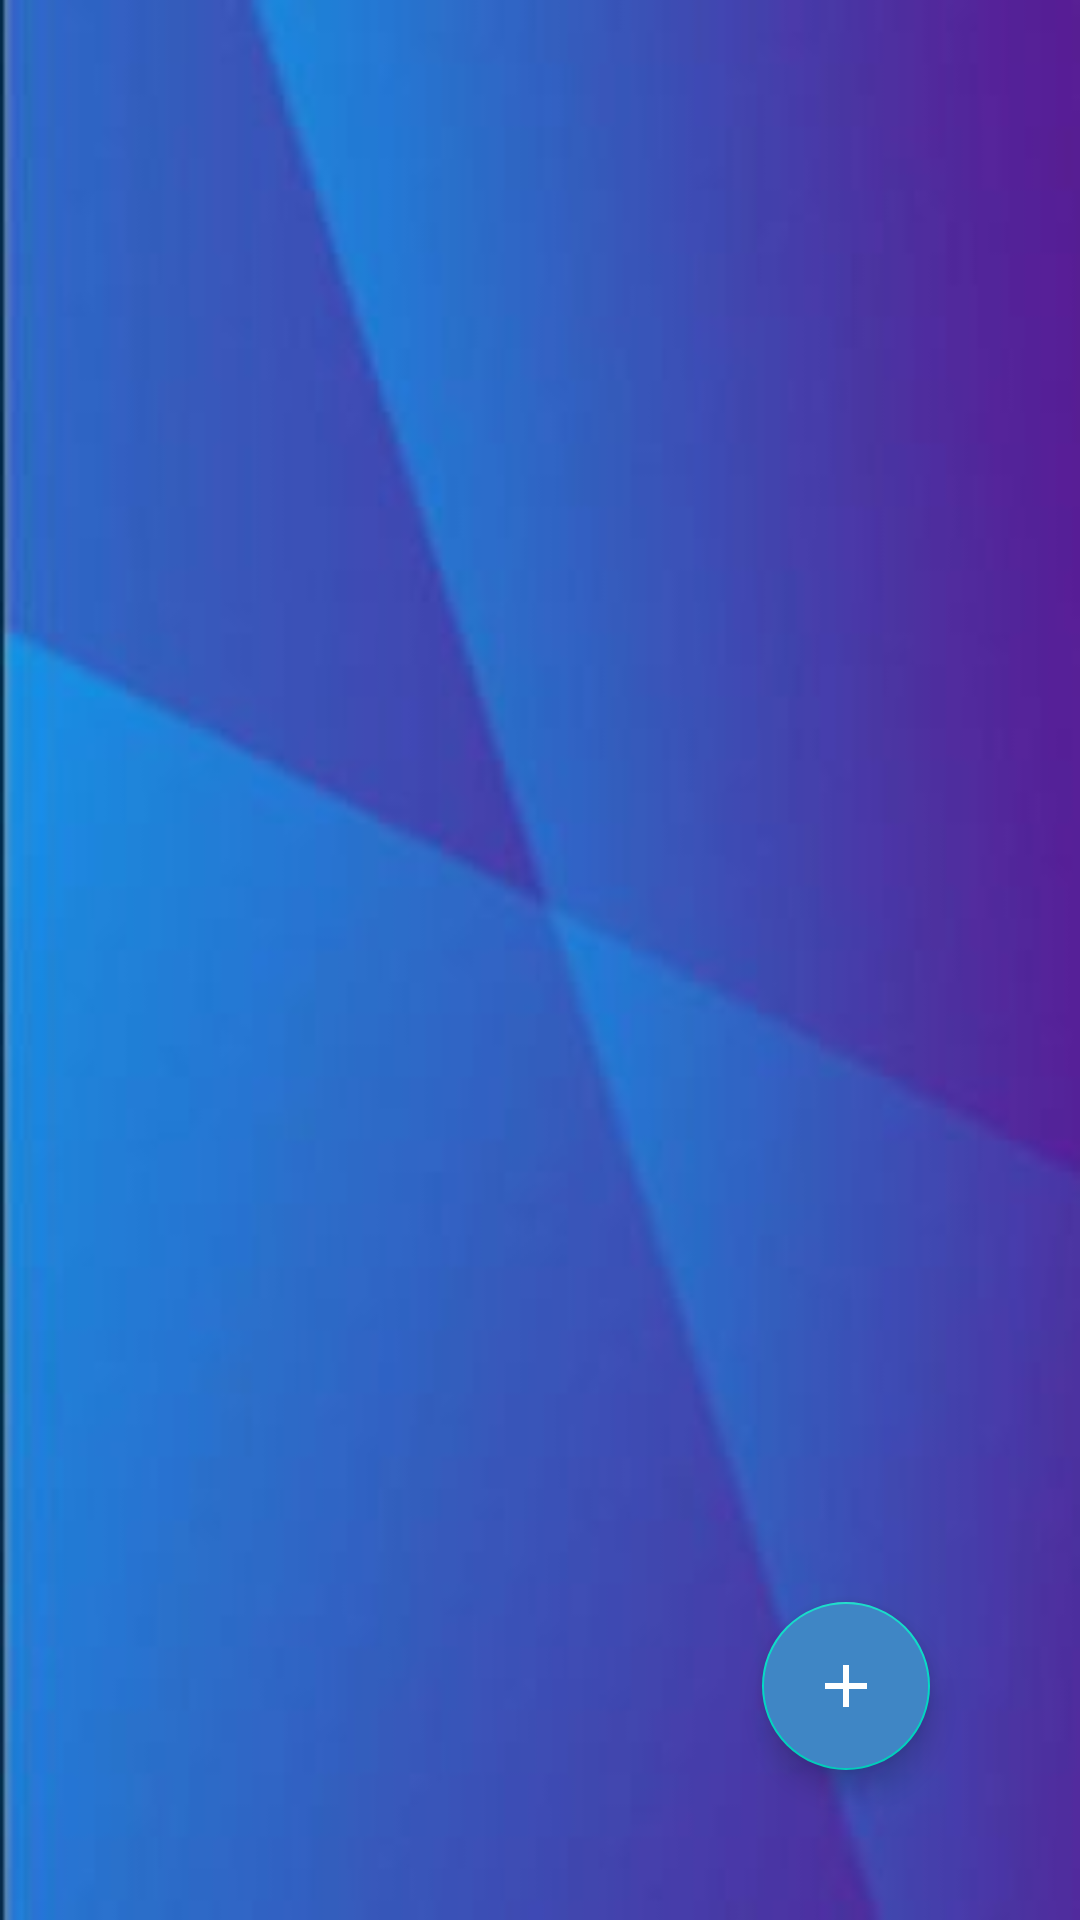

Point at icon controls on the screen. Image size 1080px x 1920px, points as (x=x, y=y).
add: (x=846, y=1686)
